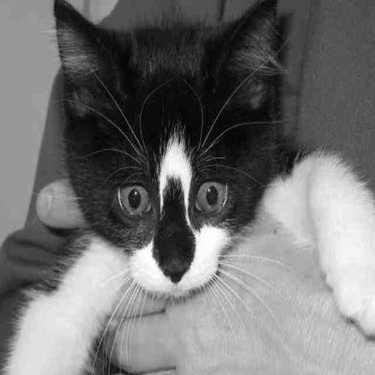cat: (3, 2, 372, 372)
